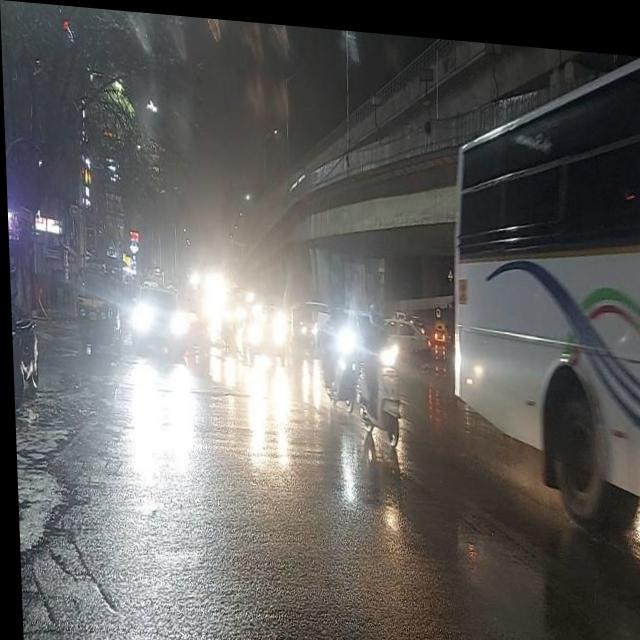bus: (455, 102, 639, 636)
car: (122, 281, 191, 368), (238, 305, 291, 372)
motorcycle: (355, 317, 409, 451), (317, 311, 363, 413)
